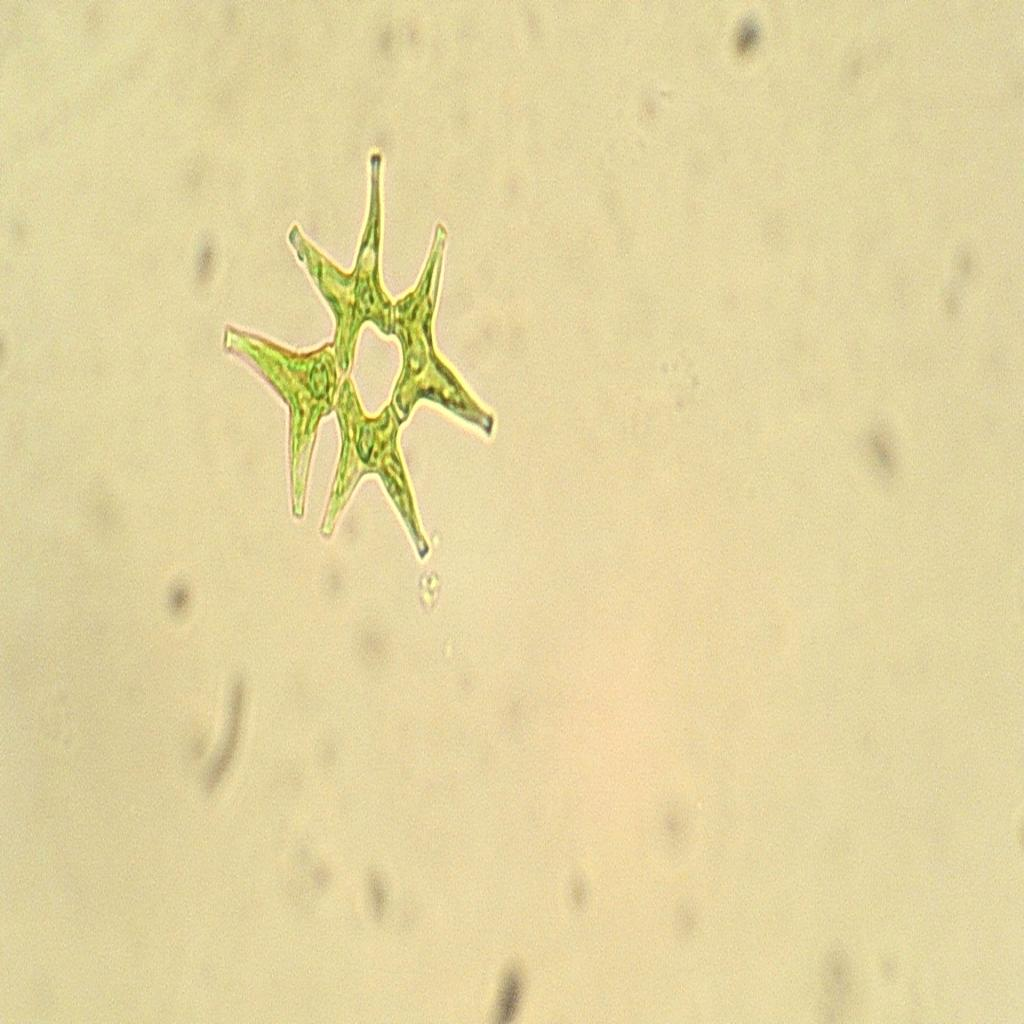Pediastrum_75FI: (204, 137, 534, 579)
